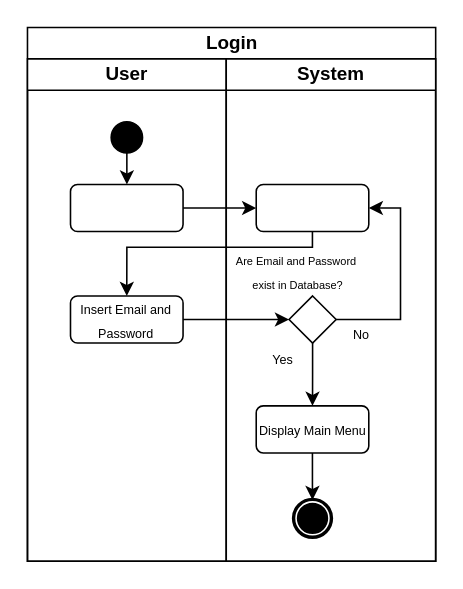
The diagram is 463 pixels wide and 589 high, and some of its shapes have lost their labels. Here are the shapes that lost their labels. From the top down, the centre of each, then its label:
(x=126, y=207): Enter Application
(x=312, y=207): Display Login Form
